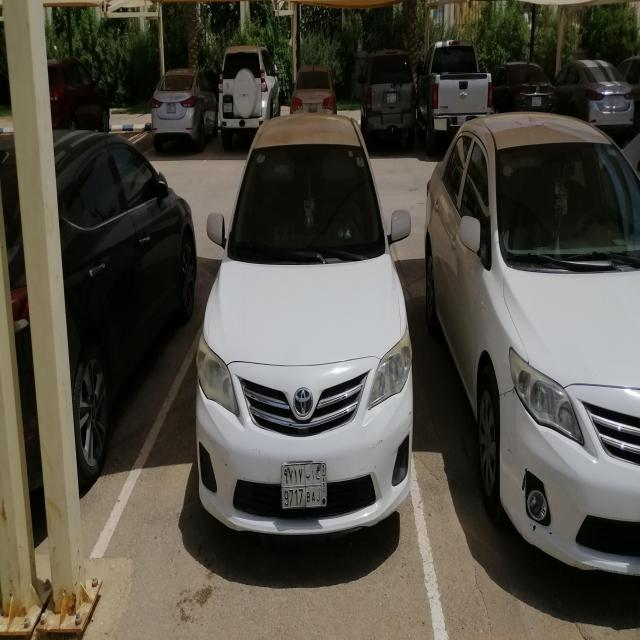license_plate: (280, 460, 328, 510), (166, 103, 176, 114), (532, 96, 542, 107), (609, 95, 619, 106), (387, 92, 396, 104), (457, 116, 467, 126), (308, 103, 317, 114), (224, 102, 232, 114)
